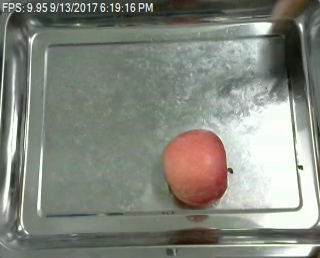Apple: (161, 128, 228, 210)
